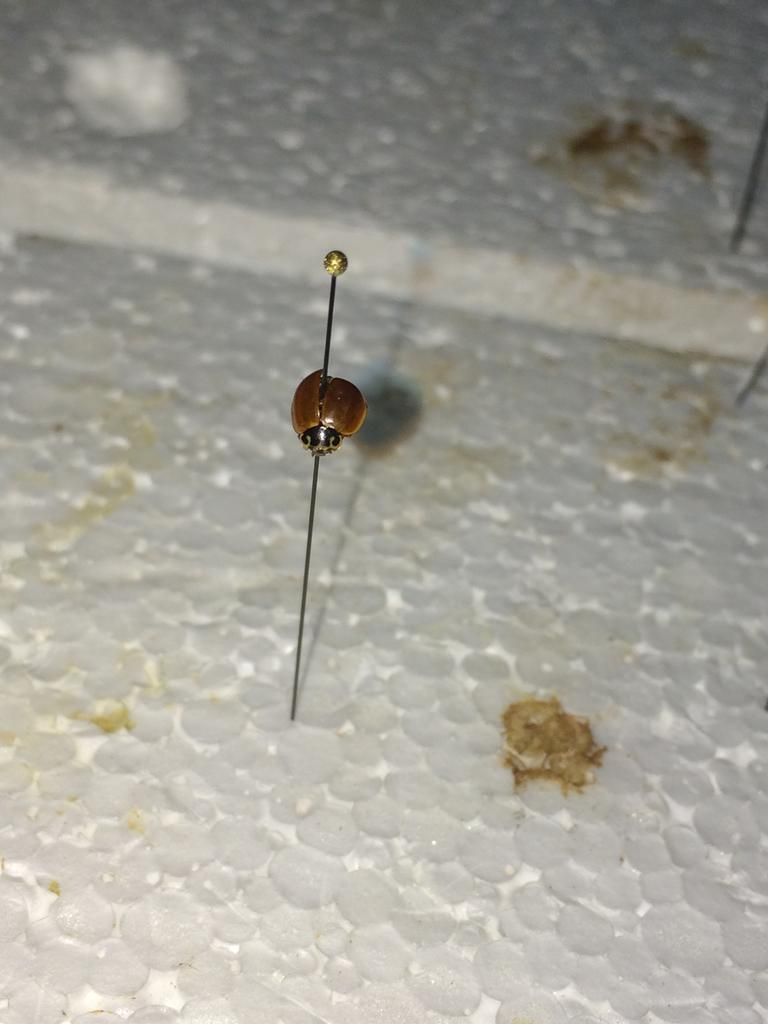ladybug: (291, 366, 374, 459)
